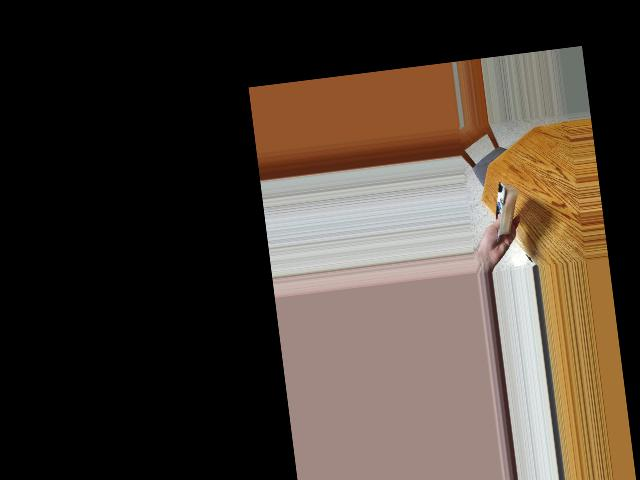cheese: (478, 181, 528, 238)
